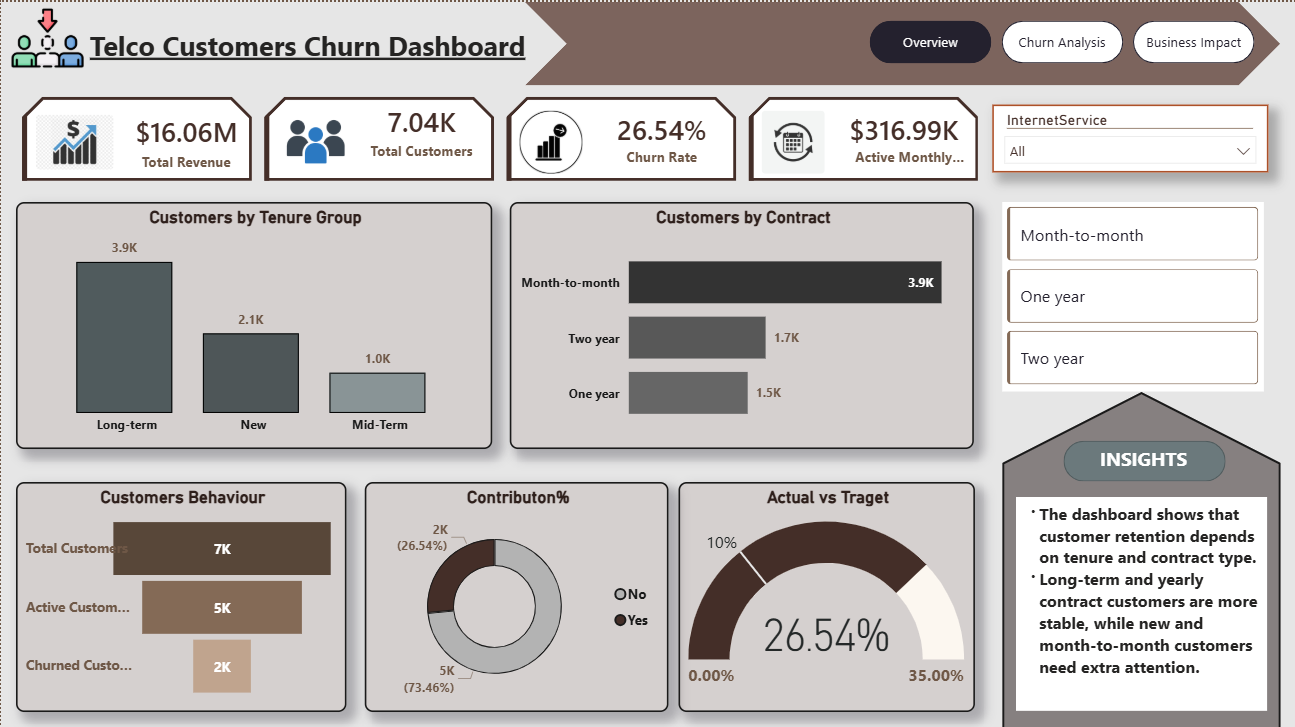

Layout of this report page (visuals, bound fields, positions):
{"tool":"powerbi","page":{"name":"Overview","canvas":[1280,720],"ordinal":0},"visuals":[{"type":"cardVisual","fields":{"Data":["fact_subscriptions.Total Revenue","fact_subscriptions.Total Customers","fact_subscriptions.Churn Rate","fact_subscriptions.Active Monthly Revenue"]},"box":[0,72.5,988.8,125],"z":0},{"type":"textbox","box":[82.5,20,460,52.5],"z":1000},{"type":"image","box":[0,0,91.2,71.2],"z":2000},{"type":"shape","box":[517.5,0,746.2,82.5],"z":3000},{"type":"donutChart","title":"Contributon%","fields":{"Category":["fact_subscriptions.Churn"],"Y":["fact_subscriptions.Total Customers"]},"box":[358.8,473.8,300,227.5],"z":4000},{"type":"barChart","title":"Customers by Contract","fields":{"Category":["dim_contract.Contract"],"Y":["fact_subscriptions.Total Customers"]},"box":[502.5,197.5,458.8,243.8],"z":5000},{"type":"columnChart","title":"Customers by Tenure Group","fields":{"Category":["fact_subscriptions.Tenure Group"],"Y":["fact_subscriptions.Total Customers"]},"box":[15,197.5,470,243.8],"z":6000},{"type":"funnel","title":"Customers Behaviour","fields":{"Y":["fact_subscriptions.Total Customers","fact_subscriptions.Active Customers","fact_subscriptions.Lost Customer"]},"box":[15,473.8,326.2,227.5],"z":7000},{"type":"gauge","title":"Actual vs Traget","fields":{"Y":["fact_subscriptions.Churn Rate"],"TargetValue":["fact_subscriptions.Target Churn"]},"box":[668.8,473.8,292.5,227.5],"z":8000},{"type":"advancedSlicerVisual","fields":{"Values":["dim_contract.Contract"]},"box":[988.8,197.5,258.8,187.5],"z":9000},{"type":"slicer","fields":{"Values":["dim_services.InternetService"]},"box":[978.8,101.2,272.5,67.5],"z":10000},{"type":"shape","box":[988.8,385,275,335],"z":11000},{"type":"pageNavigator","box":[858.4,18.3,381.5,42.8],"z":12000},{"type":"textbox","box":[1002.7,489.1,248.2,211.6],"z":13000},{"type":"shape","box":[1049.2,432.9,160.2,40.4],"z":14000},{"type":"textbox","box":[1078.5,432.9,99,56.3],"z":15000}]}

Visuals, with their boxes in screenshot pixels (x1, y1, x2, y2), scaled from the page's 1280x720 canvas onto the 1295x727 screenshot:
cardVisual - fact_subscriptions.Total Revenue x fact_subscriptions.Total Customers: [x1=0, y1=73, x2=1000, y2=199]
textbox: [x1=83, y1=20, x2=549, y2=73]
image: [x1=0, y1=0, x2=92, y2=72]
shape: [x1=524, y1=0, x2=1279, y2=83]
"Contributon%" donutChart: [x1=363, y1=478, x2=667, y2=708]
"Customers by Contract" barChart: [x1=508, y1=199, x2=973, y2=446]
"Customers by Tenure Group" columnChart: [x1=15, y1=199, x2=491, y2=446]
"Customers Behaviour" funnel: [x1=15, y1=478, x2=345, y2=708]
"Actual vs Traget" gauge: [x1=677, y1=478, x2=973, y2=708]
advancedSlicerVisual - dim_contract.Contract: [x1=1000, y1=199, x2=1262, y2=389]
slicer - dim_services.InternetService: [x1=990, y1=102, x2=1266, y2=170]
shape: [x1=1000, y1=389, x2=1279, y2=726]
pageNavigator: [x1=868, y1=18, x2=1254, y2=62]
textbox: [x1=1014, y1=494, x2=1266, y2=708]
shape: [x1=1061, y1=437, x2=1224, y2=478]
textbox: [x1=1091, y1=437, x2=1191, y2=494]
